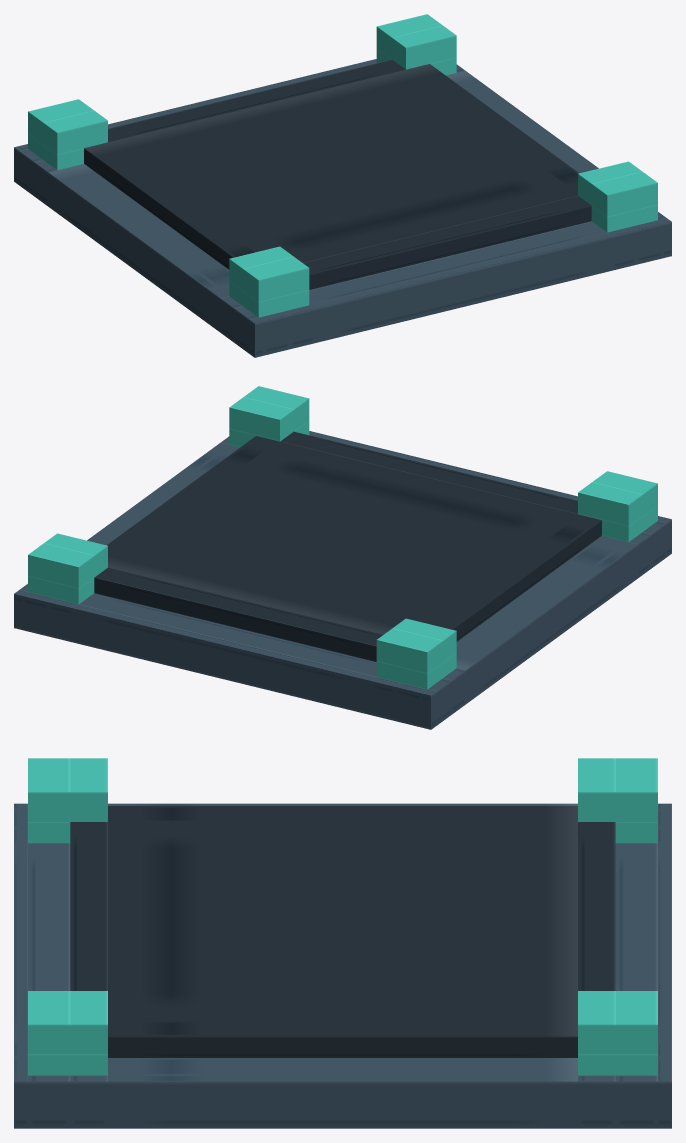
File: sc_spawner.obj
3 renders of one model, top to bottom at view 1: azimuth 30°, elevation 25°; view 2: azimuth 150°, elevation 25°; view 3: azimuth 270°, elevation 25°, orthographic. The views are drawn at different scales.
Size of the model in its own units: 14 by 2.3 by 14.
Materials: 1 (1 with a texture image).
